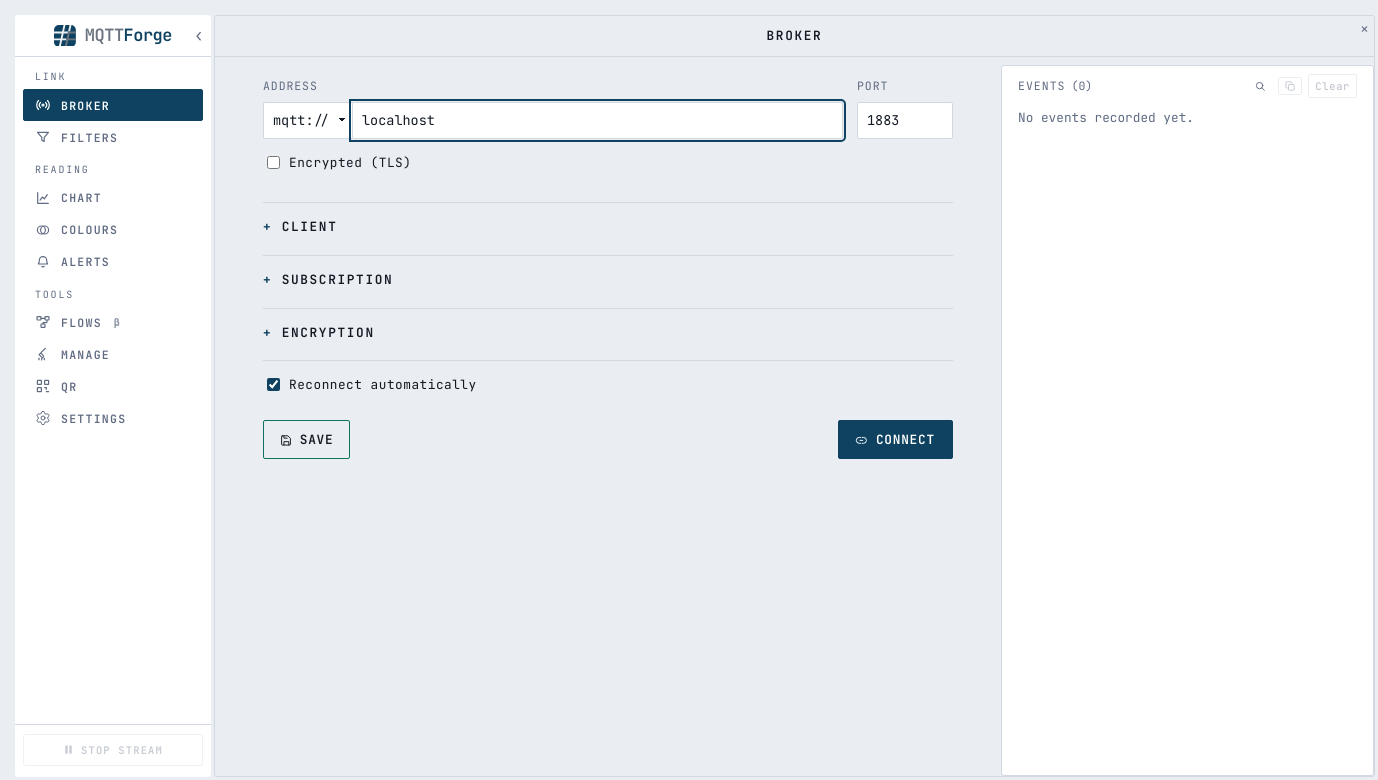
Test case: App › keeps the window while a link the reader is making comes up
Expected: the button "Broker" is shown, [23,89,203,121]
Click the button "Connect".
click(896, 440)  # box [838,420,953,459]
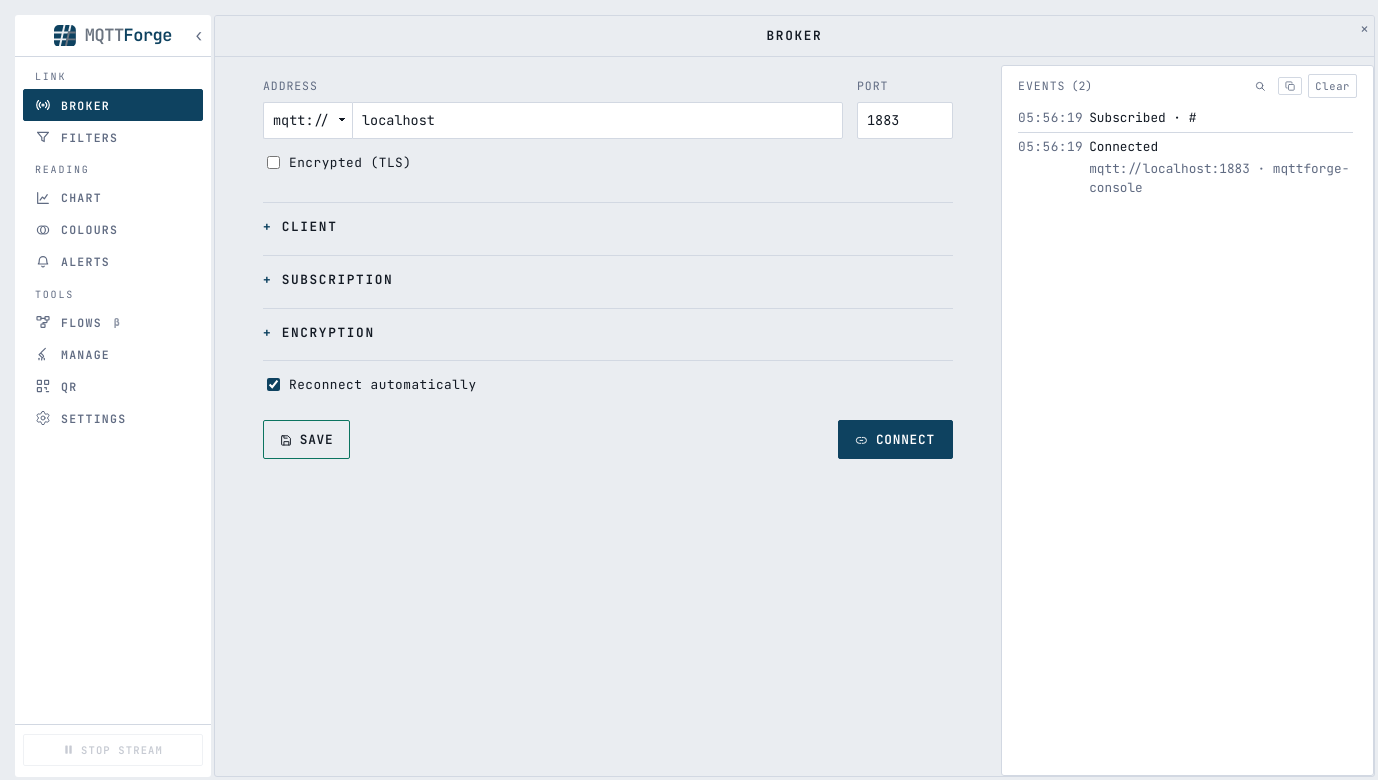
Now the text "Connected" is shown, box [1089,138,1158,155]
